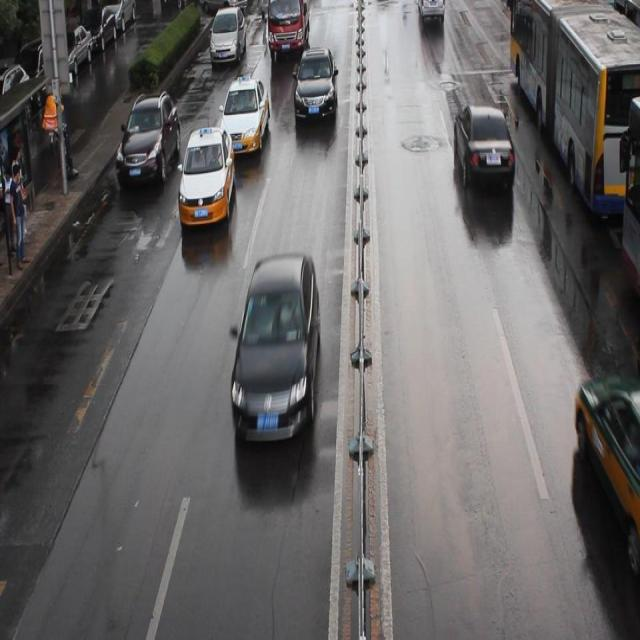bus: (267, 1, 310, 54)
car: (230, 255, 318, 443), (572, 372, 640, 573), (115, 89, 182, 190), (177, 127, 235, 227), (453, 104, 514, 190), (218, 75, 269, 155), (293, 48, 338, 124), (209, 1, 246, 65), (199, 1, 248, 12)
truck: (416, 1, 445, 19)
van: (508, 1, 640, 217), (619, 94, 640, 297)
